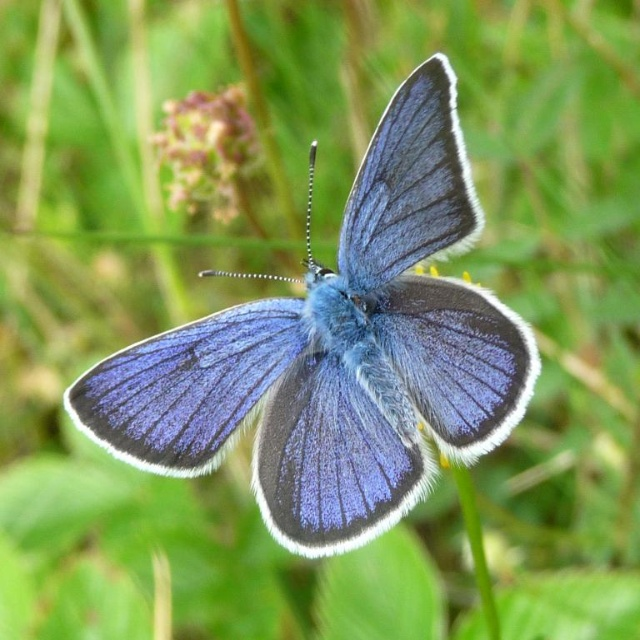Butterfly: (77, 52, 535, 548)
